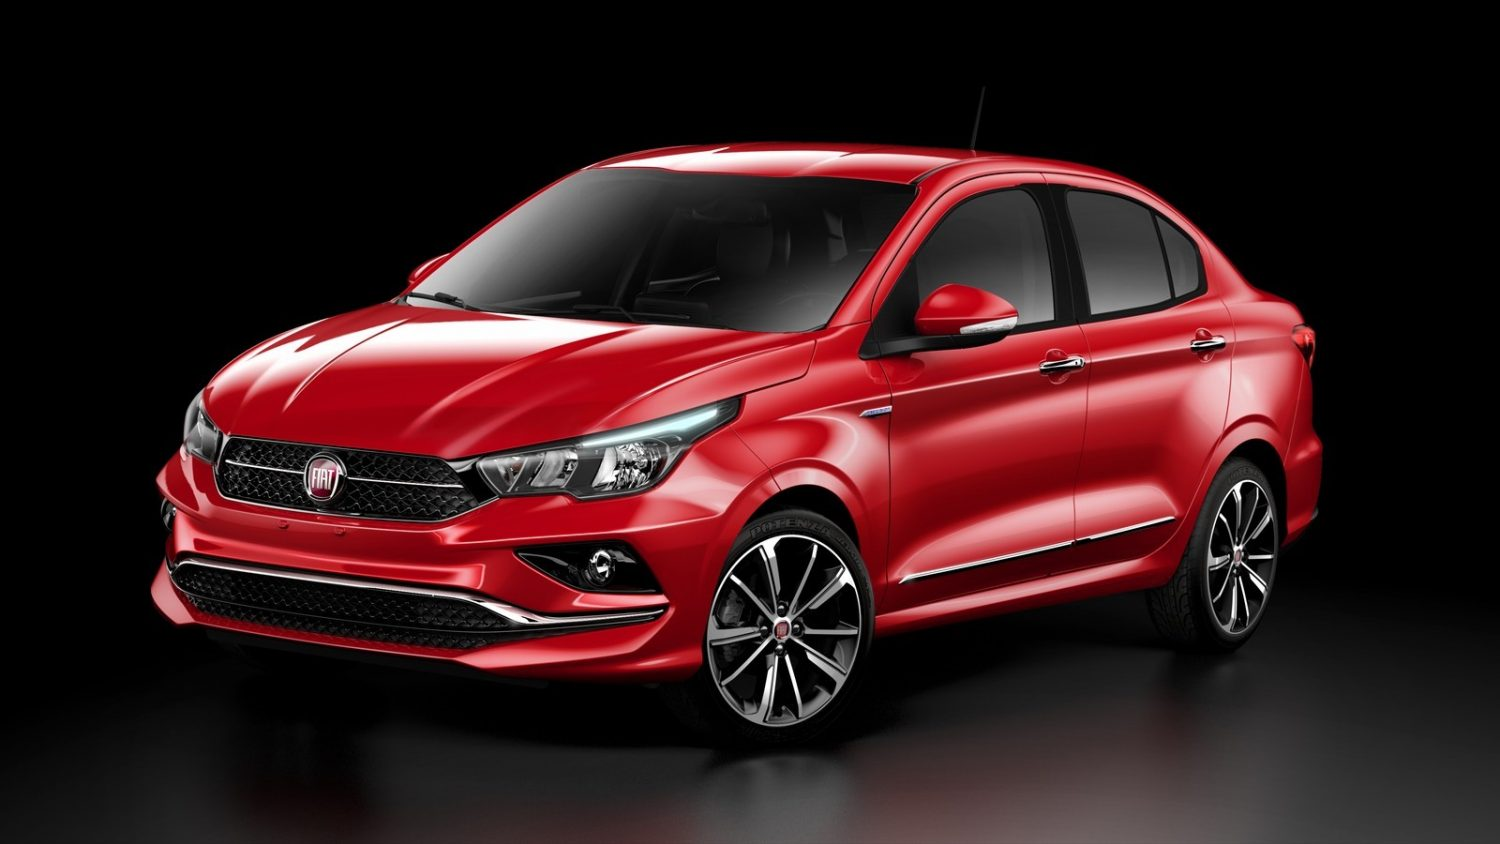Carro: (141, 137, 1330, 742)
